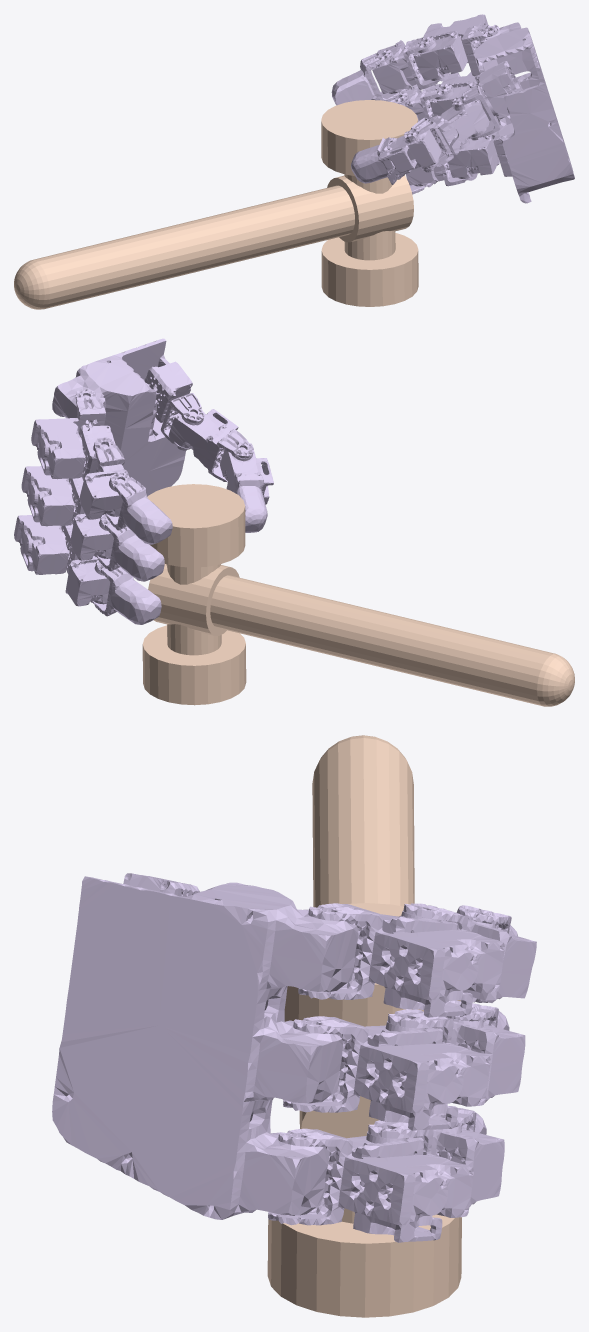
Rendered from 955aedbd35ca46-closed.glb.
3 renders of one model, top to bottom at view 1: azimuth 30°, elevation 25°; view 2: azimuth 150°, elevation 25°; view 3: azimuth 270°, elevation 25°, orthographic. The views are drawn at different scales.
Parts seen in each view (by area): view 1: world, LEAP_hand; view 2: LEAP_hand, world; view 3: LEAP_hand, world.
Part boxes in pixels (x1,y1,x2,y2): world: [14, 100, 418, 309]; LEAP_hand: [331, 14, 574, 203]; LEAP_hand: [14, 338, 273, 624]; world: [142, 484, 574, 706]; LEAP_hand: [52, 873, 536, 1242]; world: [267, 735, 461, 1317].
Bounding box in the file's own units: 0.4731 × 0.2151 × 0.1901.
